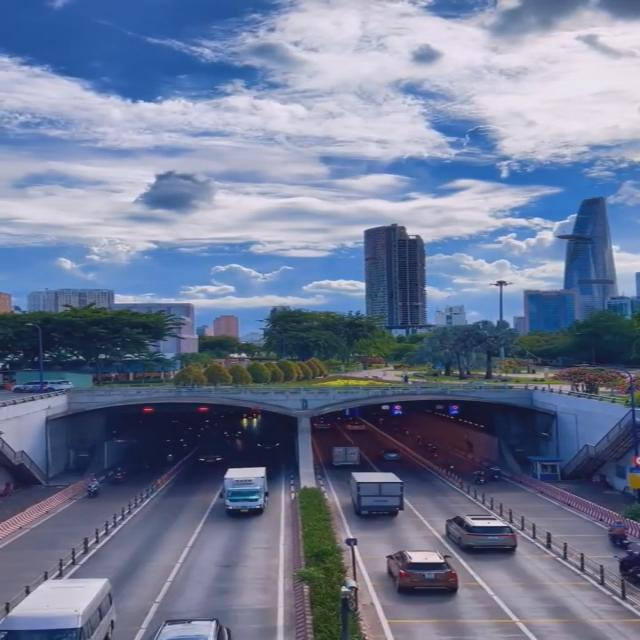bus: (2, 577, 117, 638)
car: (386, 548, 459, 596), (444, 514, 520, 553), (150, 618, 234, 640), (607, 516, 630, 546)
truck: (351, 470, 402, 521), (224, 468, 269, 514), (332, 444, 361, 469)
